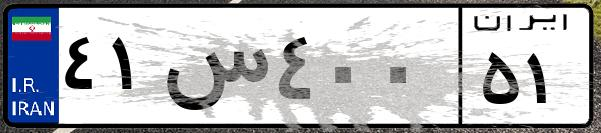0: (385, 28, 445, 110), (330, 28, 385, 110)
1: (525, 38, 570, 115), (110, 28, 158, 98)
4: (270, 28, 330, 110), (57, 26, 110, 100)
5: (475, 38, 525, 113)
س: (158, 20, 270, 120)
